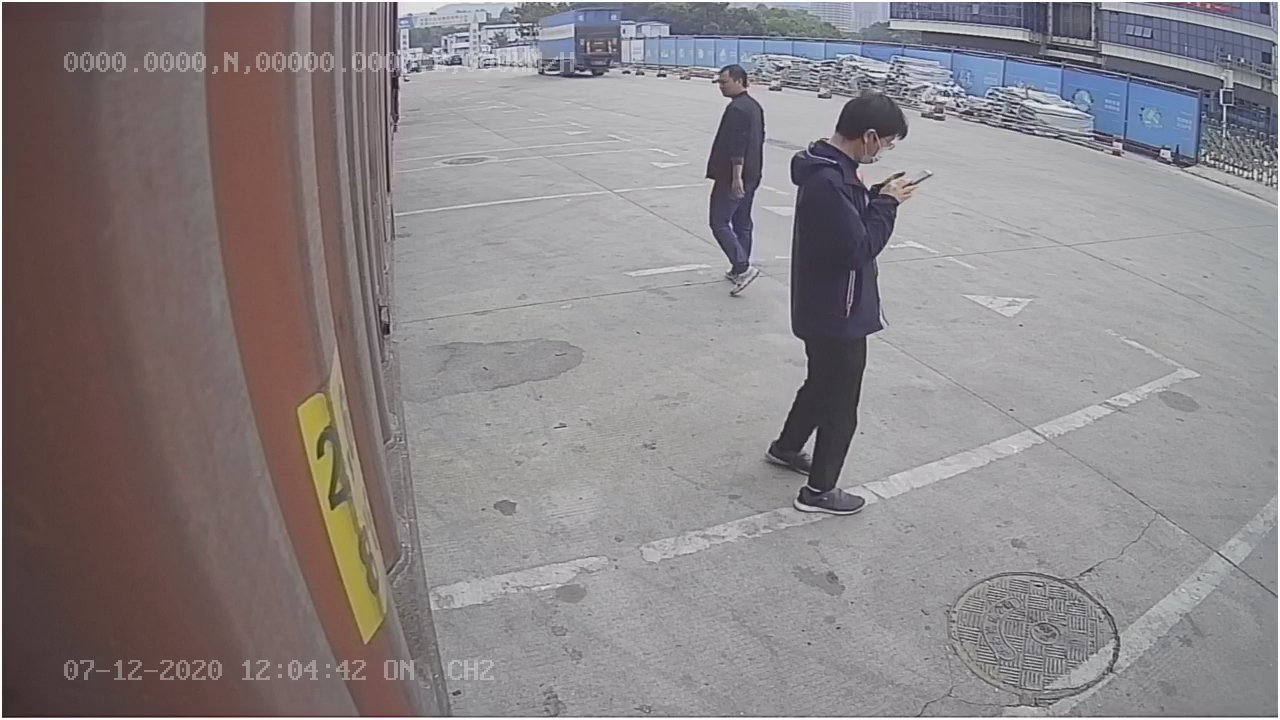person: (768, 89, 908, 514)
